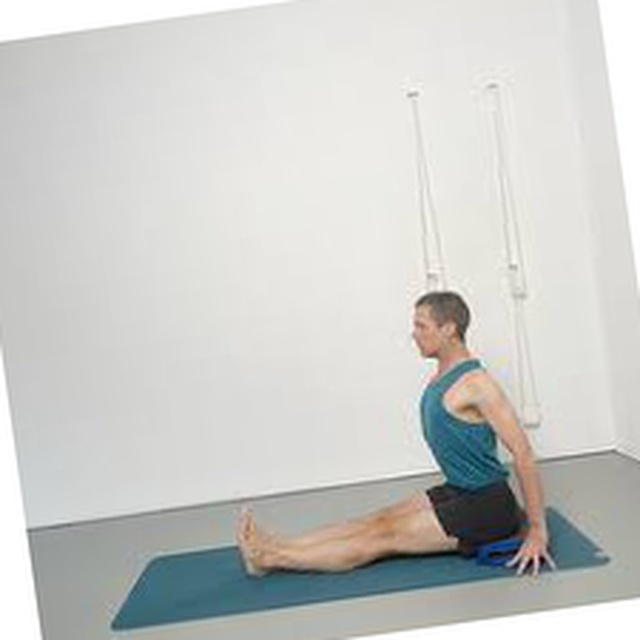Staff_Pose: (237, 289, 559, 582)
